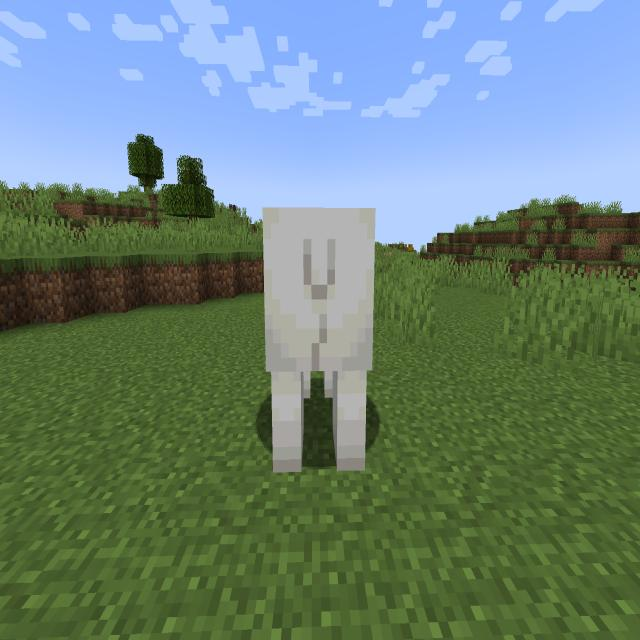Polar Bear: (258, 196, 380, 490)
